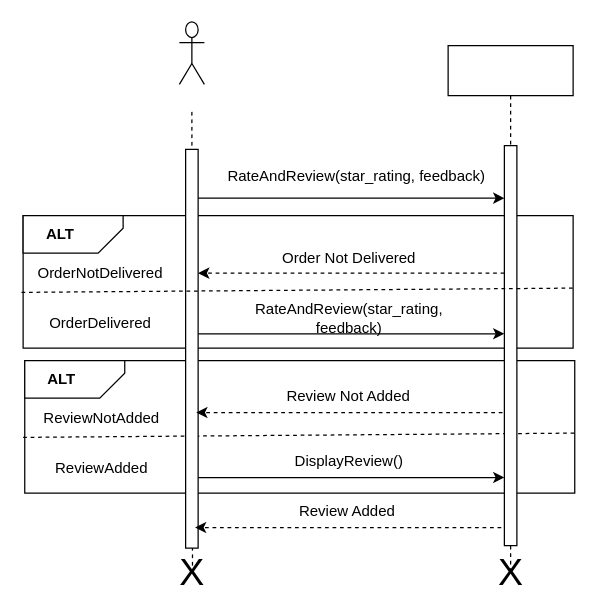
This 599x616 diagram has some shape labels left out. Each missing label, with the box of its shape:
:System: (447, 44, 573, 573)
User: (178, 21, 204, 84)
